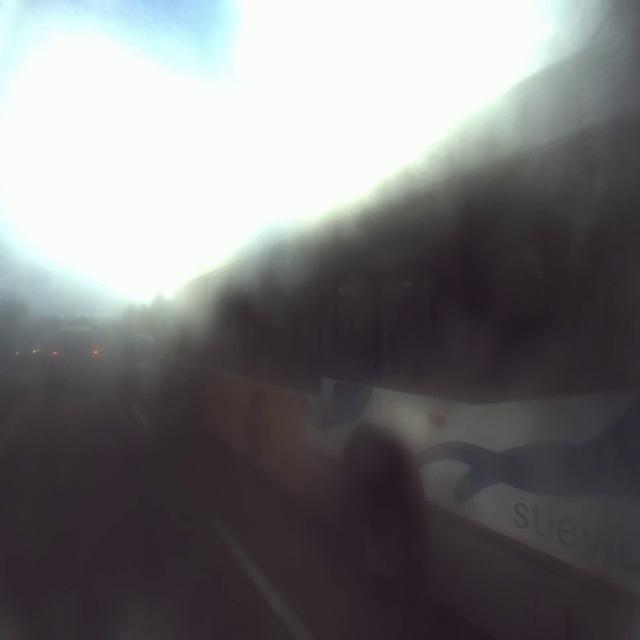car: (46, 314, 104, 390)
